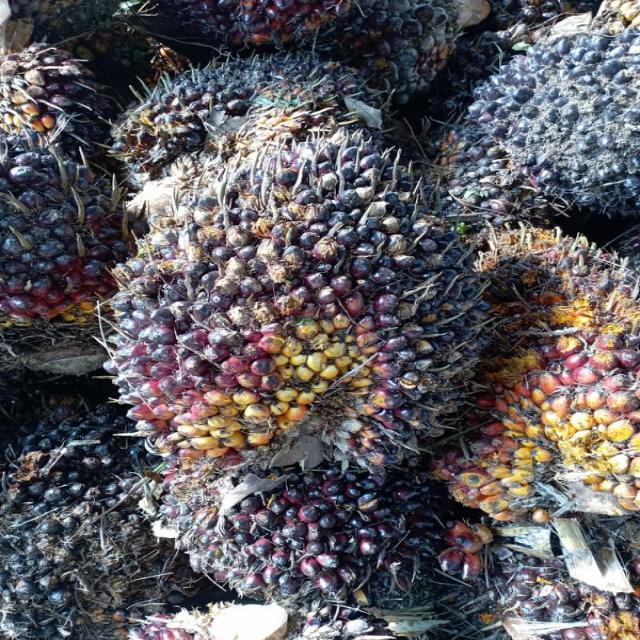fraksi 00: (118, 149, 470, 478), (0, 408, 192, 637), (160, 458, 431, 607), (445, 8, 640, 208), (120, 55, 381, 179)
fraksi 1: (437, 214, 640, 521)
